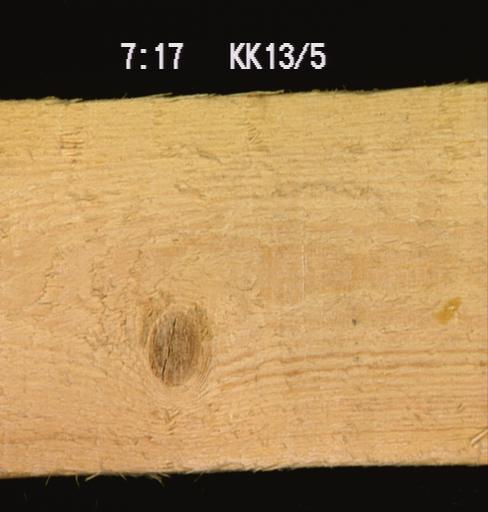sound_knot: (141, 302, 208, 384)
